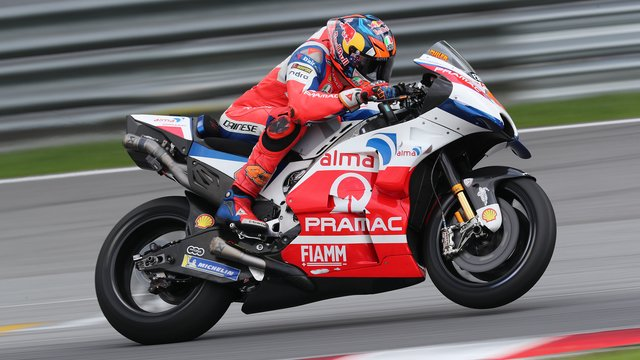helmet: (271, 8, 517, 209)
